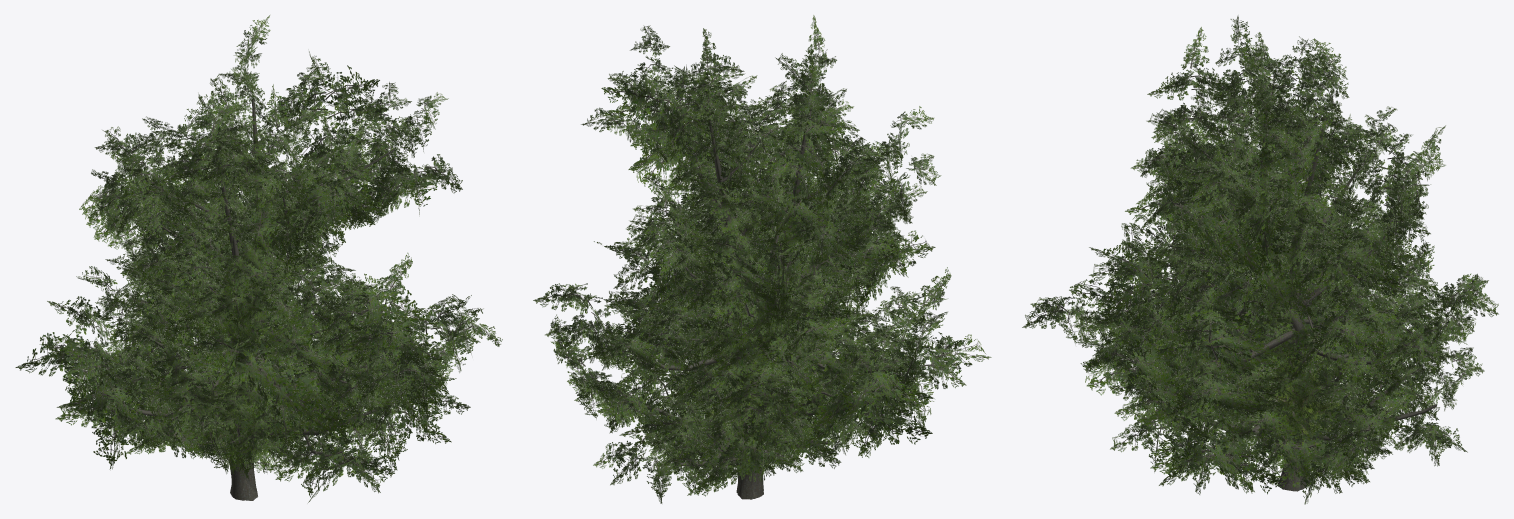
Rendered from plants.glb.
The picture shows the model from 3 angles, left to right: view 1: azimuth 30°, elevation 25°; view 2: azimuth 150°, elevation 25°; view 3: azimuth 270°, elevation 25°; orthographic projection.
Parts seen in each view (by area): view 1: oakLA_leaf, oakLB_leaf, oakBA_leaf, oakBB_leaf, oakLA_bark, oakLB_bark, oakMB_leaf; view 2: oakLA_leaf, oakLB_leaf, oakBA_leaf, oakBB_leaf, oakLA_bark, oakMB_leaf, oakLB_bark, oakMA_leaf; view 3: oakLA_leaf, oakLB_leaf, oakBA_leaf, oakBB_leaf, oakMB_leaf, oakMA_leaf, oakLA_bark, slimA, oakLB_bark, slimB.
Part boxes in pixels (x1,y1,x2,y2): oakLA_leaf: (15, 15, 502, 502); oakLB_leaf: (79, 92, 442, 478); oakBA_leaf: (55, 174, 429, 466); oakBB_leaf: (76, 171, 409, 454); oakLA_bark: (116, 98, 394, 500); oakLB_bark: (141, 167, 362, 500); oakMB_leaf: (146, 313, 295, 474); oakLA_leaf: (533, 15, 991, 489); oakLB_leaf: (593, 65, 955, 503); oakBA_leaf: (550, 150, 927, 463); oakBB_leaf: (604, 144, 912, 475); oakLA_bark: (622, 105, 901, 498); oakMB_leaf: (670, 274, 839, 476); oakLB_bark: (672, 133, 883, 499); oakMA_leaf: (656, 341, 824, 453); oakLA_leaf: (1069, 15, 1498, 494); oakLB_leaf: (1022, 32, 1484, 504); oakBA_leaf: (1122, 123, 1419, 493); oakBB_leaf: (1130, 125, 1452, 450); oakMB_leaf: (1236, 266, 1390, 464); oakMA_leaf: (1244, 294, 1374, 450); oakLA_bark: (1156, 111, 1428, 489); slimA: (1267, 331, 1340, 439); oakLB_bark: (1182, 105, 1436, 491); slimB: (1251, 353, 1332, 437).
Size of the model in its own units: 24.5 by 26.95 by 25.1.
Materials: 5 (5 with a texture image).
